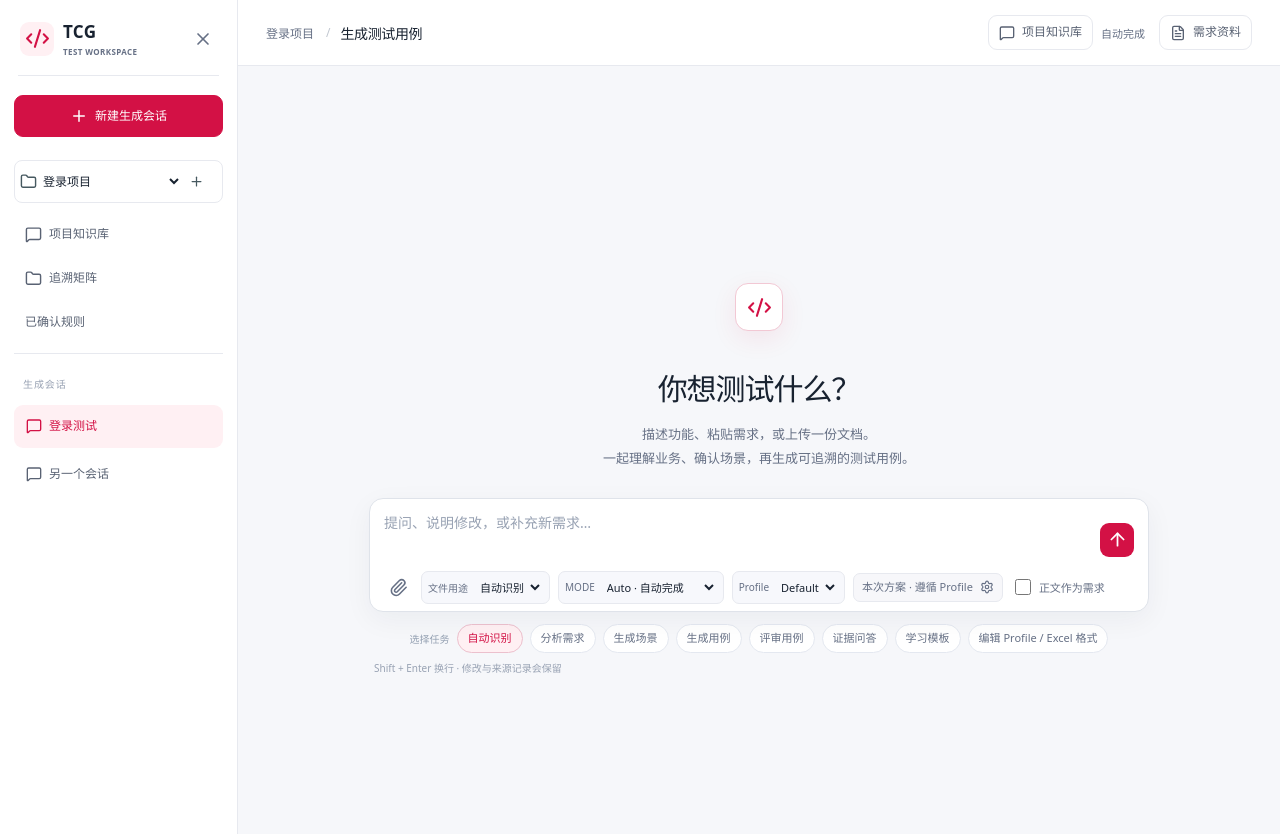
failed quick replies keep the draft and allow a deliberate retry
The image size is (1280, 834).
Type "不要丢失我的草稿" into the text box named "聊天输入" at (737, 535), box x1=384 y1=511 x2=1090 y2=559
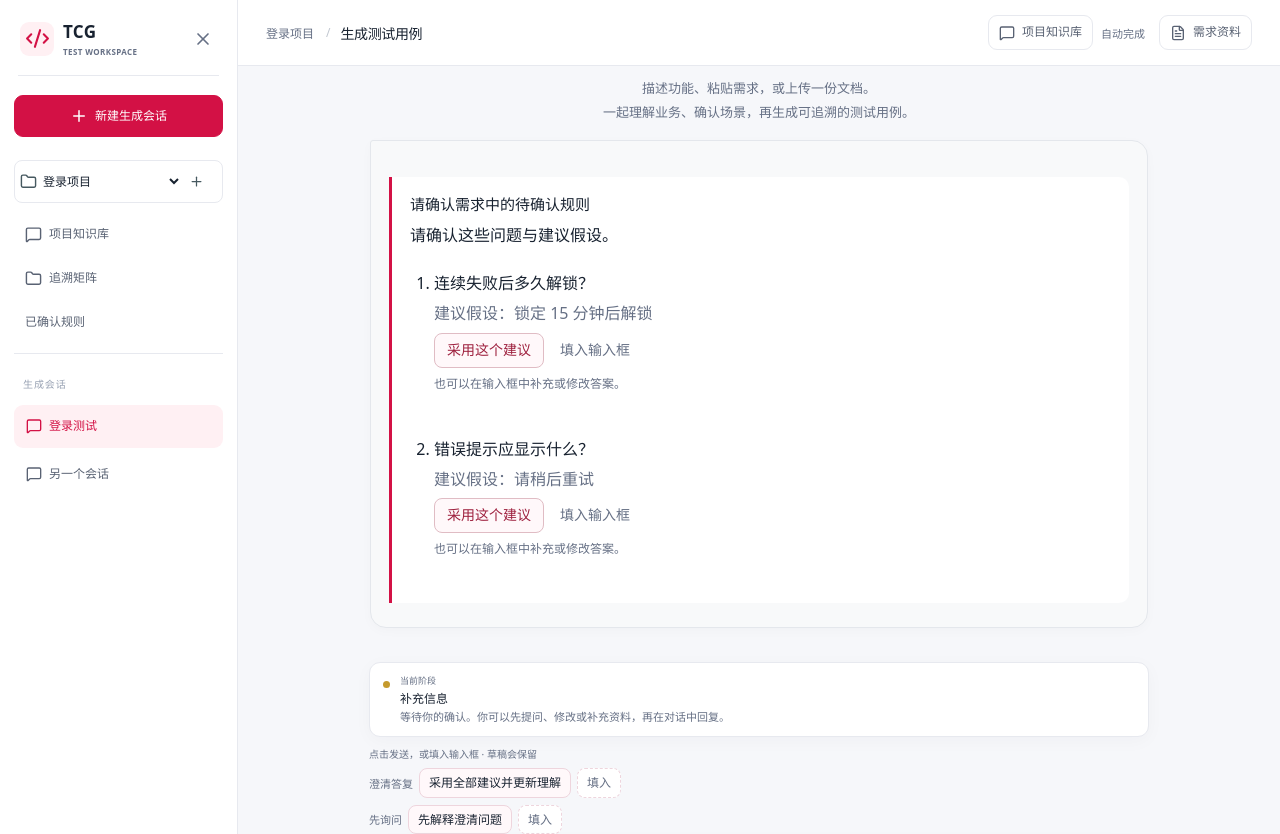
Click the button with aria-label "采用 Q1 建议" at (489, 350), box x1=434 y1=333 x2=544 y2=368
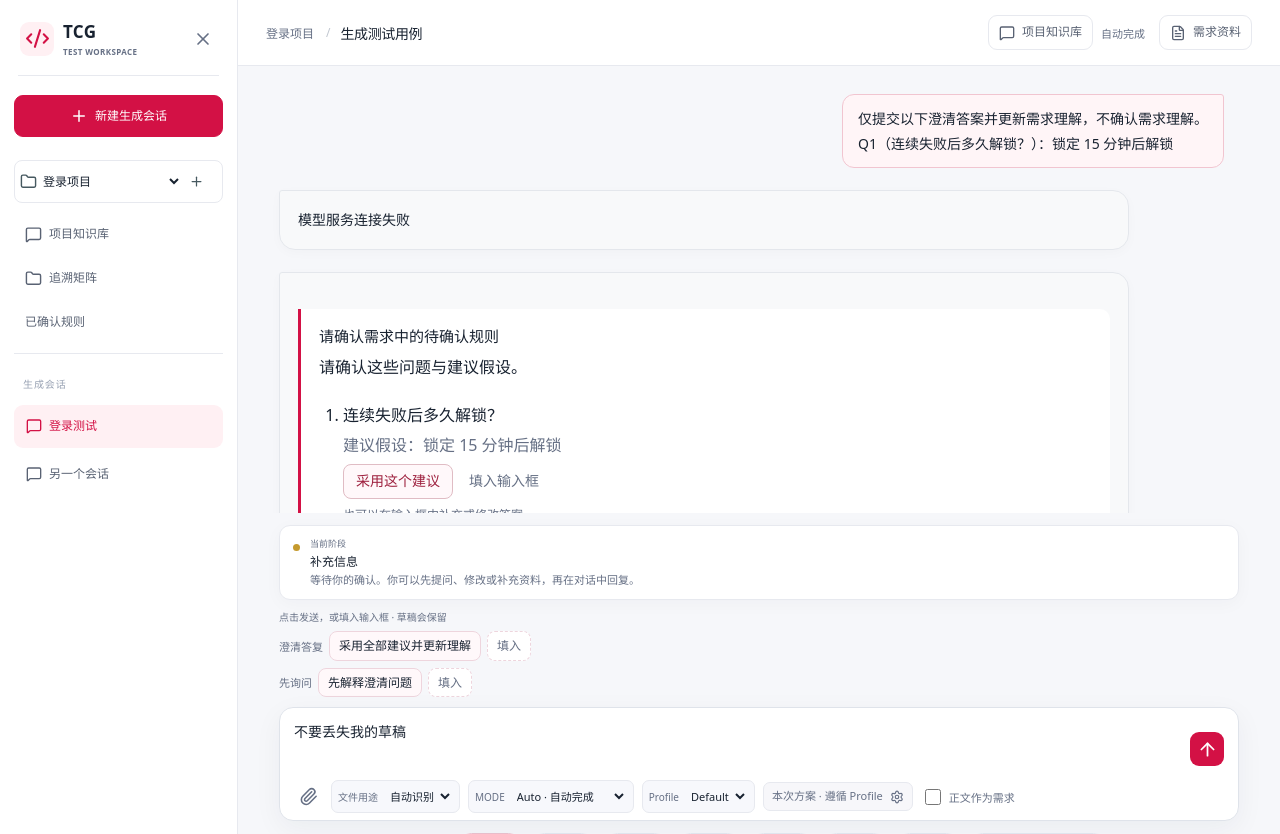
Check: the text "模型服务连接失败" is shown, box x1=298 y1=210 x2=410 y2=229
